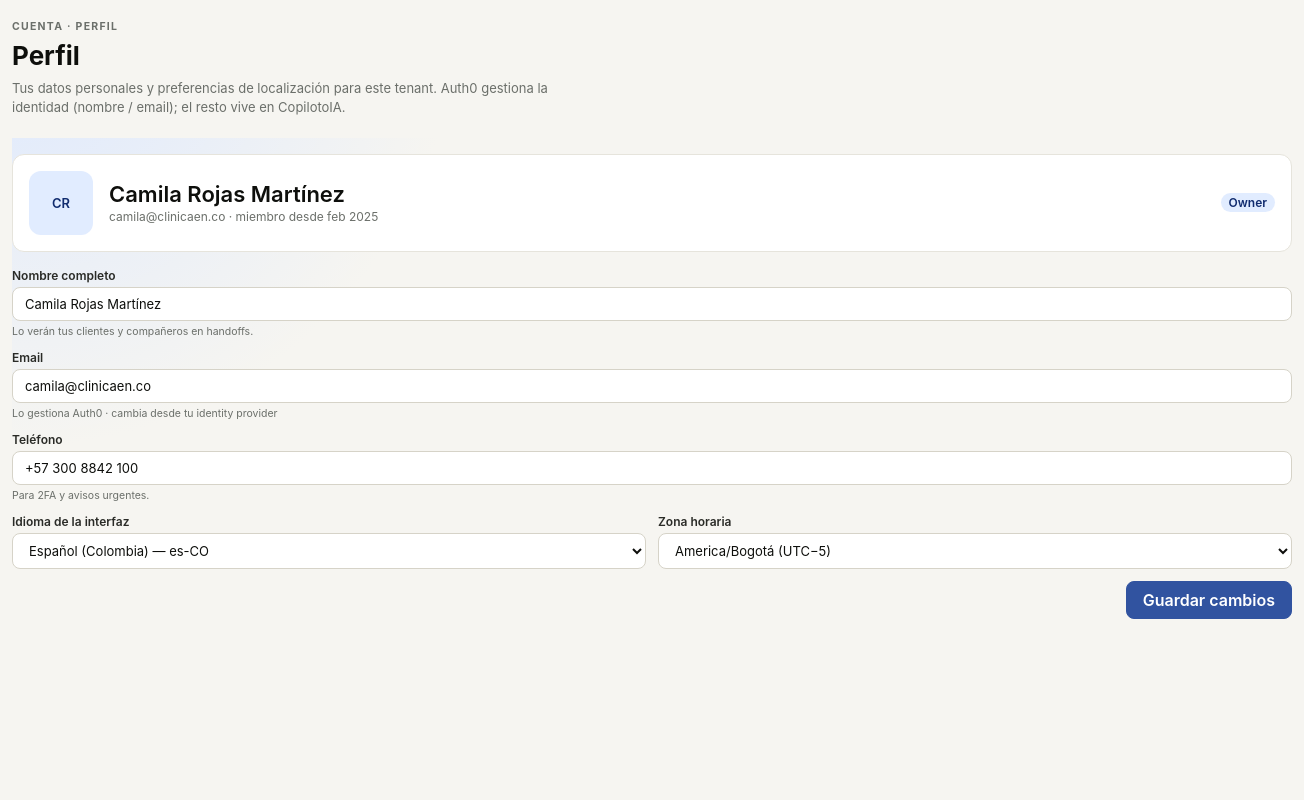
Test: <AccountProfile/> › si el backend devuelve 422 muestra AlertBanner danger con el detail
Click the button "Guardar cambios" at (1209, 600), box [1126,581,1292,619]
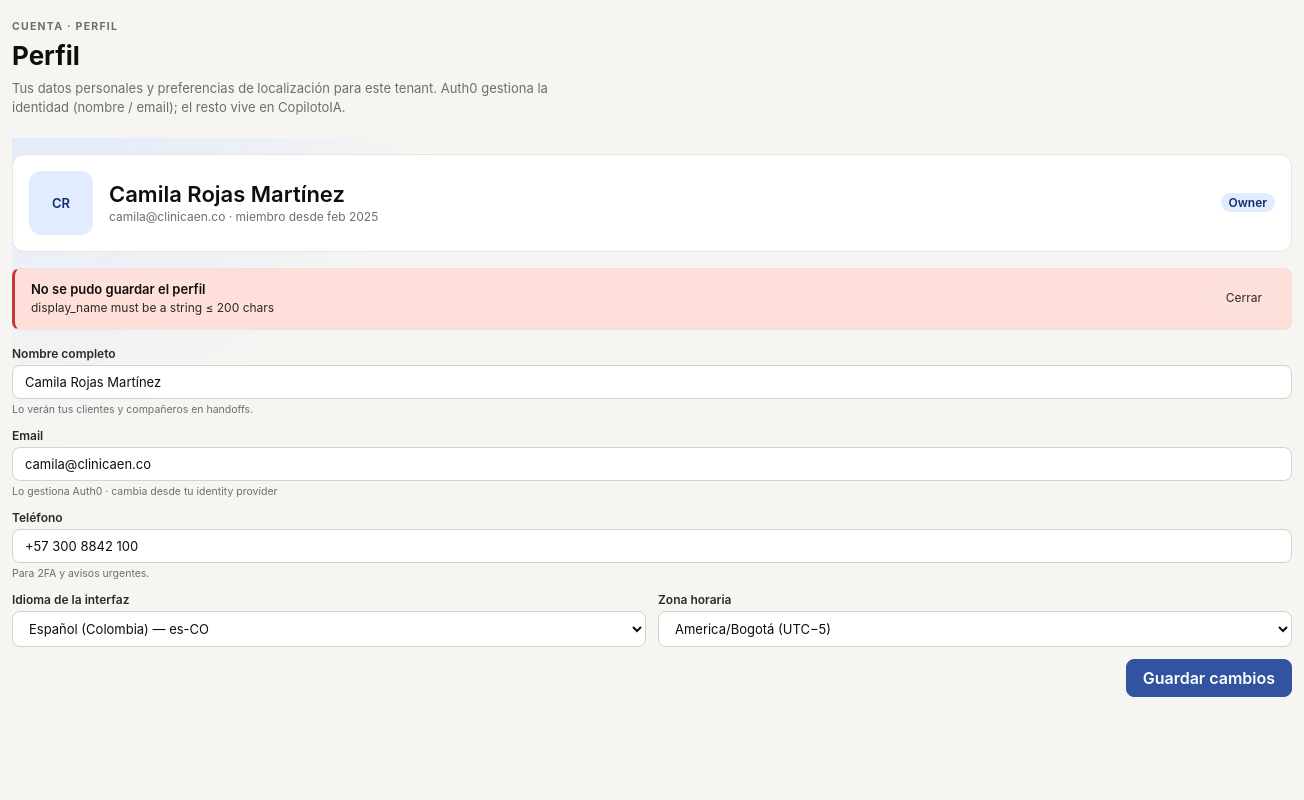
Expected: the text "display_name must be a string ≤ 200 chars" is shown, [31,300,274,315]
